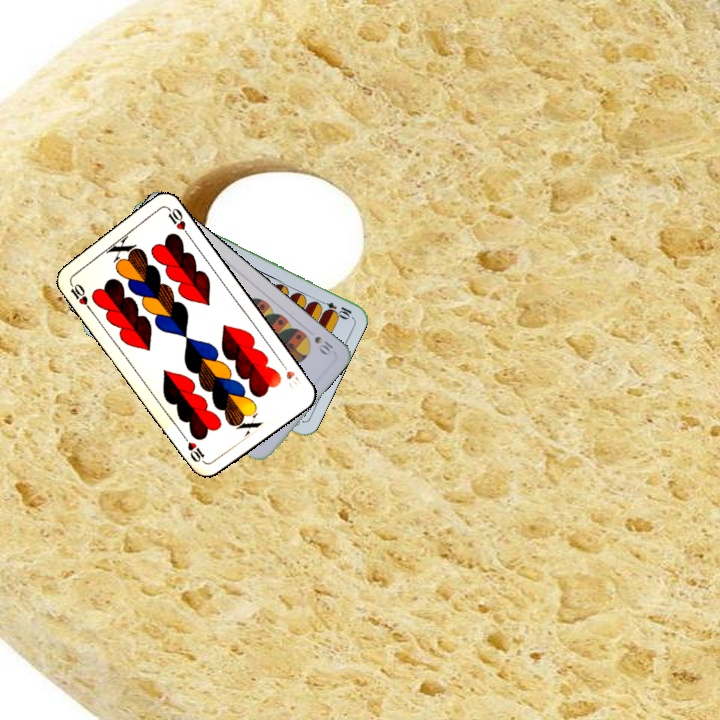E10: (315, 296, 354, 321)
H10: (65, 277, 94, 313), (276, 357, 304, 392)
S10: (310, 332, 337, 358)
